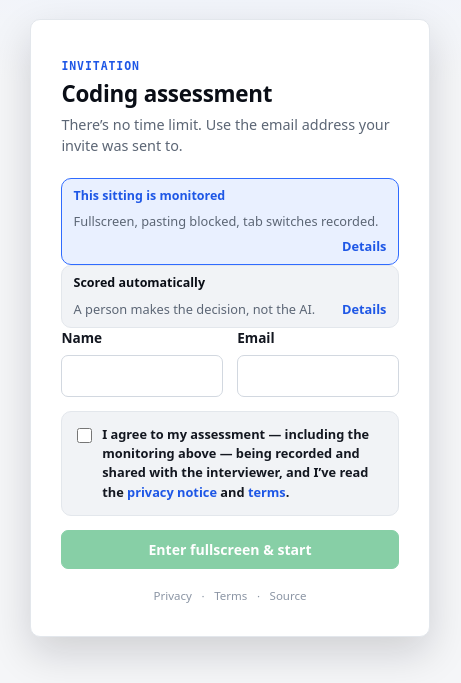
Test: CandidatePage › cannot start until the candidate has consented
Type "Jane Doe" into the field labelled "Name" at (142, 376), box [61, 354, 223, 397]
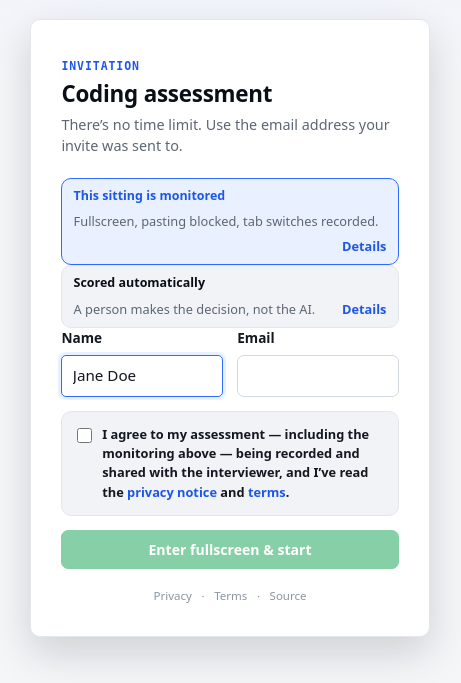
Type "jane@example.com" into the field labelled "Email" at (318, 376), box [237, 354, 399, 397]
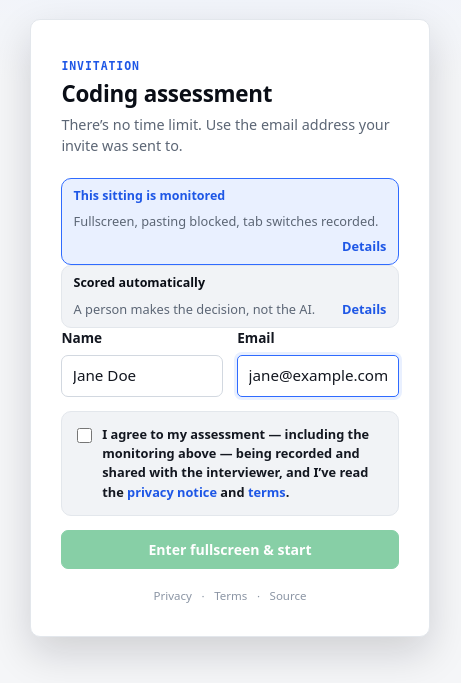
Check: the button "Enter fullscreen & start" is disabled, box [61, 530, 399, 569]
Click the checkbox labelled "I agree to my assessment" at (84, 435), box [77, 428, 92, 442]
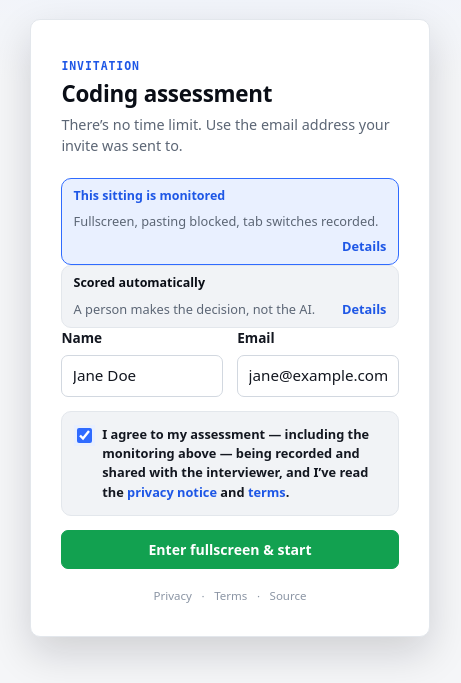
Check: the button "Enter fullscreen & start" is enabled, box [61, 530, 399, 569]
